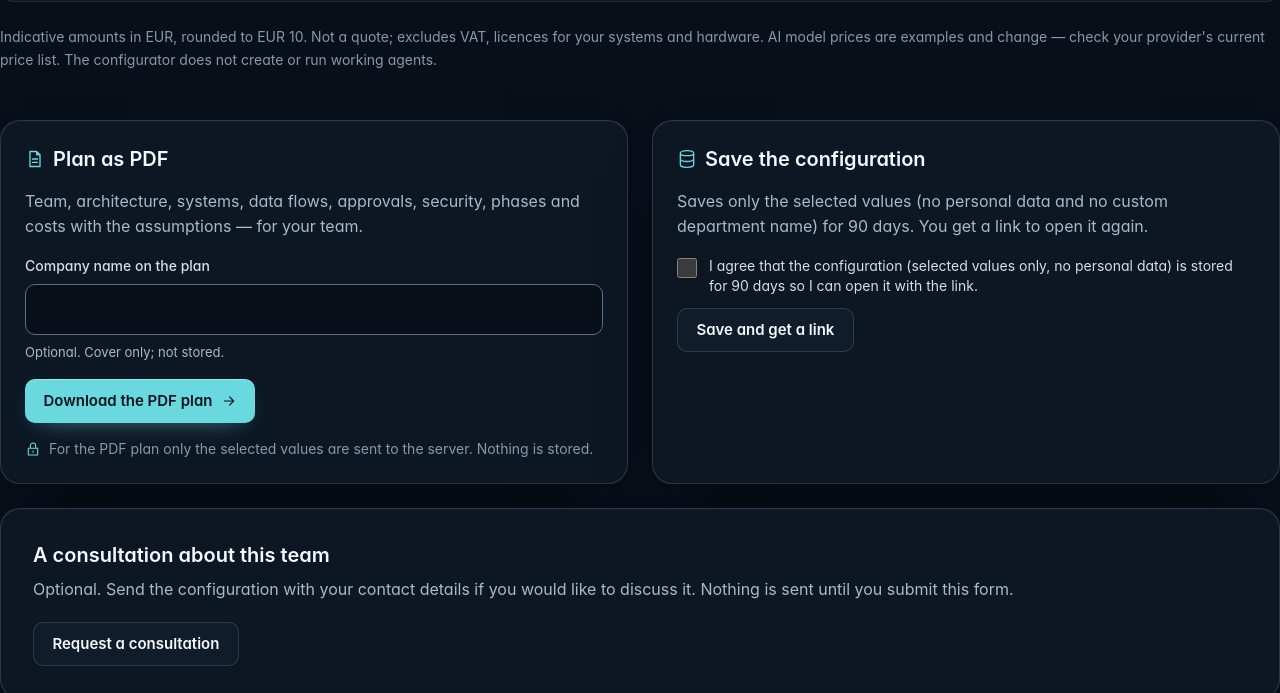
Test case: configurator plan, export and consultation › downloads the PDF plan
(page scrolled)
Click the button "Download the PDF plan": (140, 401) x1=25 y1=379 x2=255 y2=423
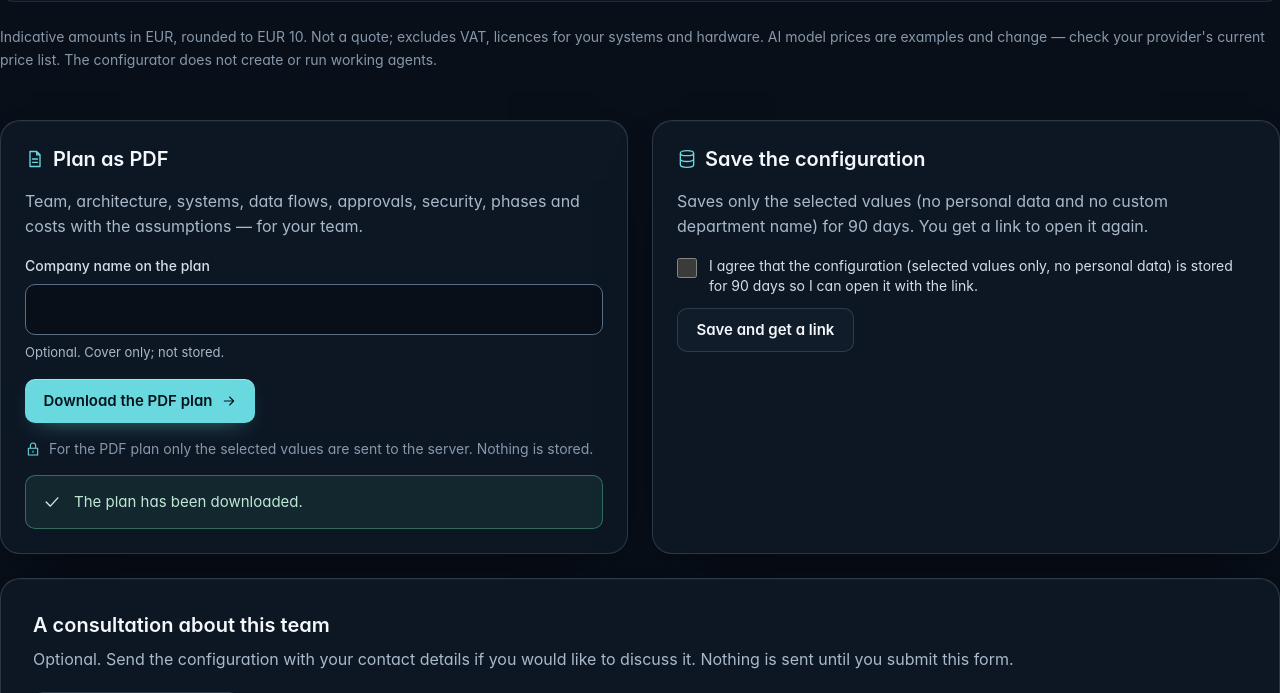
Result: the text "The plan has been downloaded." is shown at x1=74 y1=490 x2=303 y2=513
